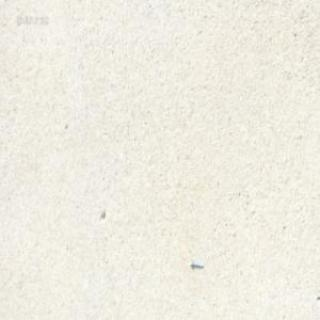Nailtrack_idkeyframe: (189, 258, 203, 267)
